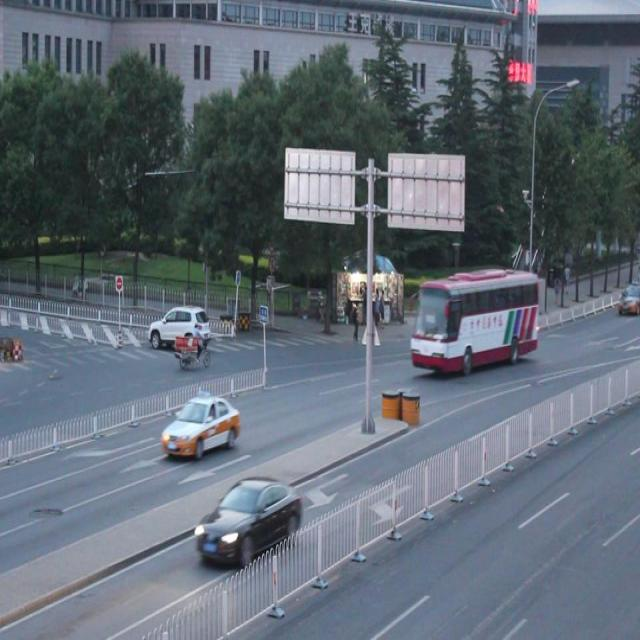car: (192, 472, 301, 559), (160, 391, 239, 461), (148, 308, 212, 358), (614, 278, 640, 315)
van: (412, 270, 538, 369)
